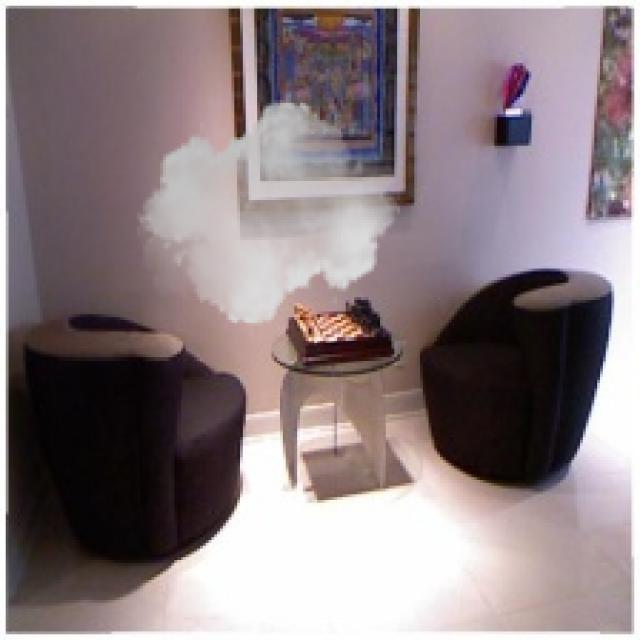Smoke: (137, 92, 400, 334)
